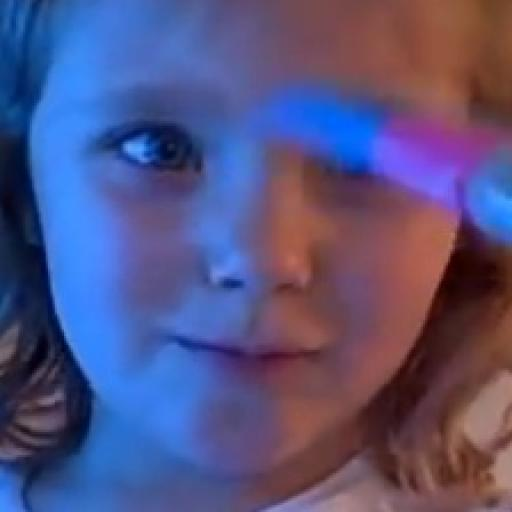Autism: (47, 0, 502, 473)
